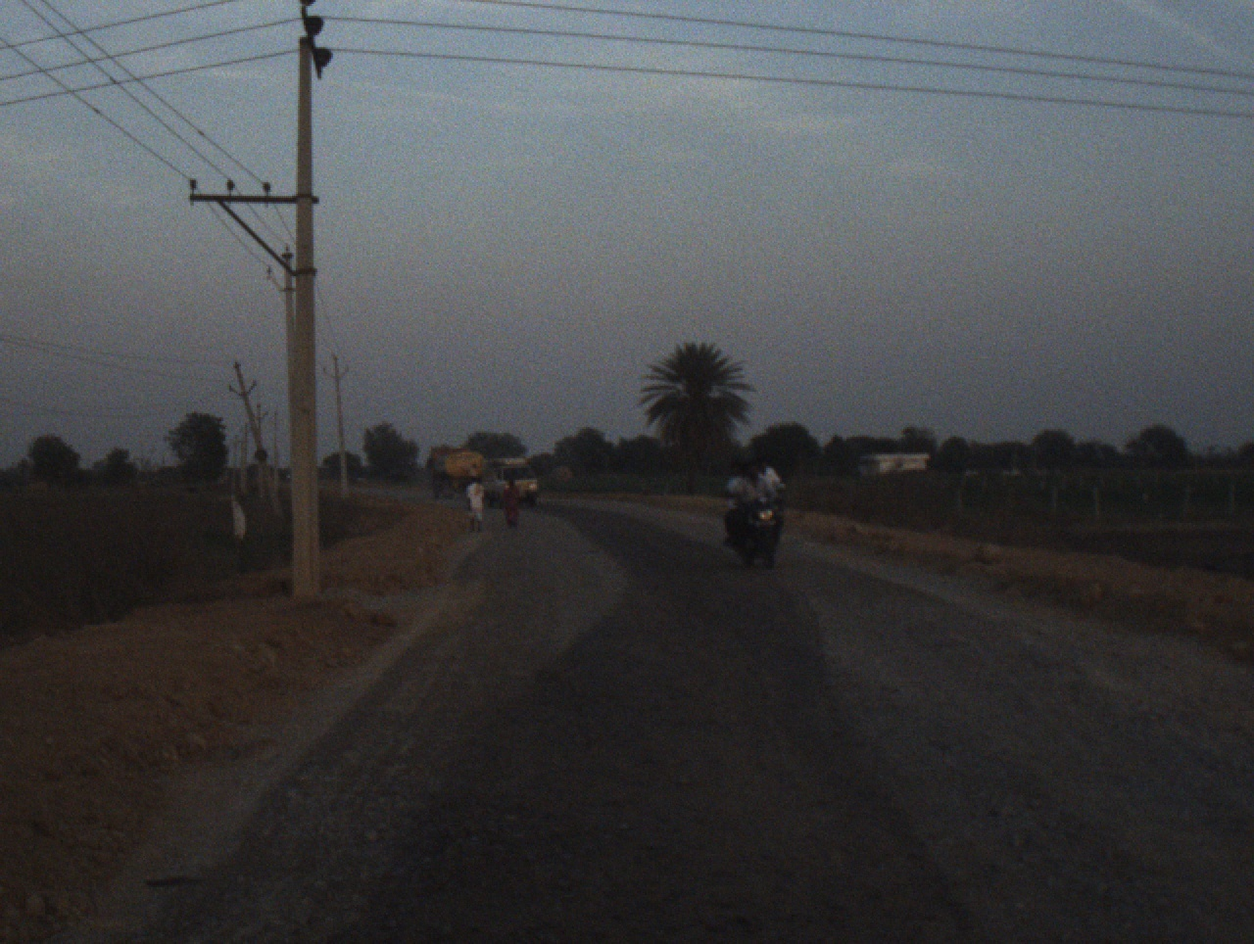motorcycle: (735, 490, 786, 572), (767, 485, 782, 524)
person: (461, 472, 488, 537), (501, 472, 524, 522)
rider: (730, 457, 776, 549), (751, 448, 780, 496), (730, 468, 756, 509)
truck: (426, 440, 485, 497), (483, 452, 540, 504)
